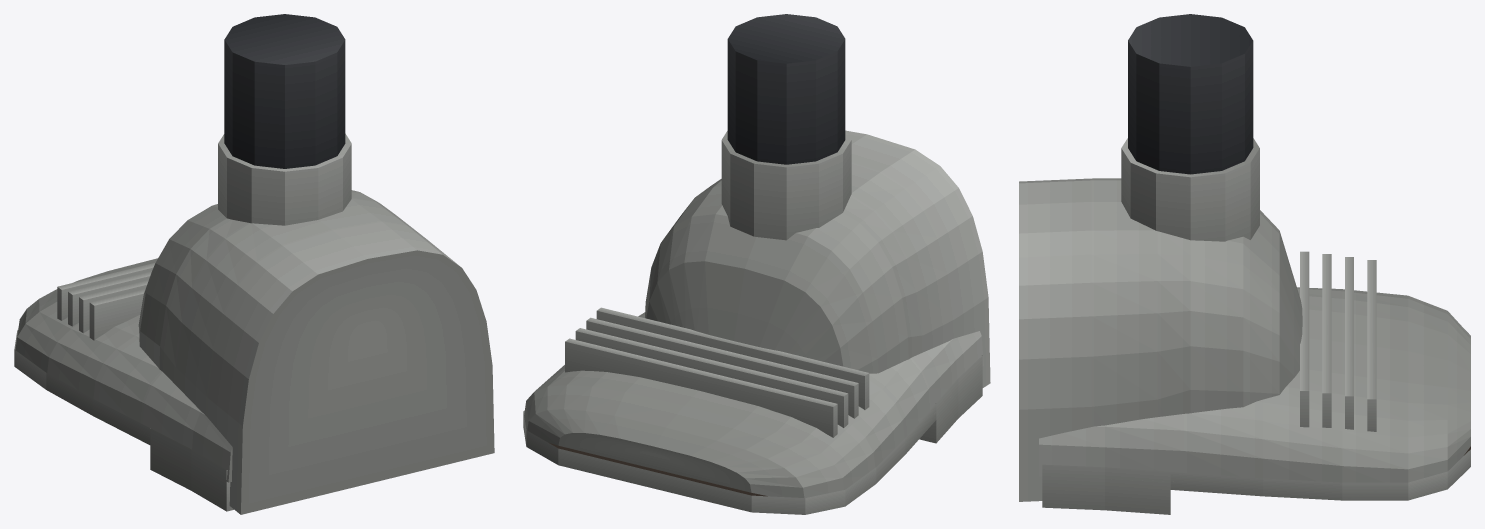
Rendered from streetlight_geespo.obj.
3 views of the same model, side by side, from view 1: azimuth 30°, elevation 25°; view 2: azimuth 150°, elevation 25°; view 3: azimuth 270°, elevation 25° (orthographic). The views are drawn at different scales.
Visible parts, largest first — view 1: fixture; view 2: fixture; view 3: fixture.
Part boxes in pixels (<box>): fixture: <box>14,14,494,514</box>; fixture: <box>523,14,990,514</box>; fixture: <box>1019,14,1470,514</box>.
Size of the model in its own units: 0.375 by 0.42 by 0.4281.
